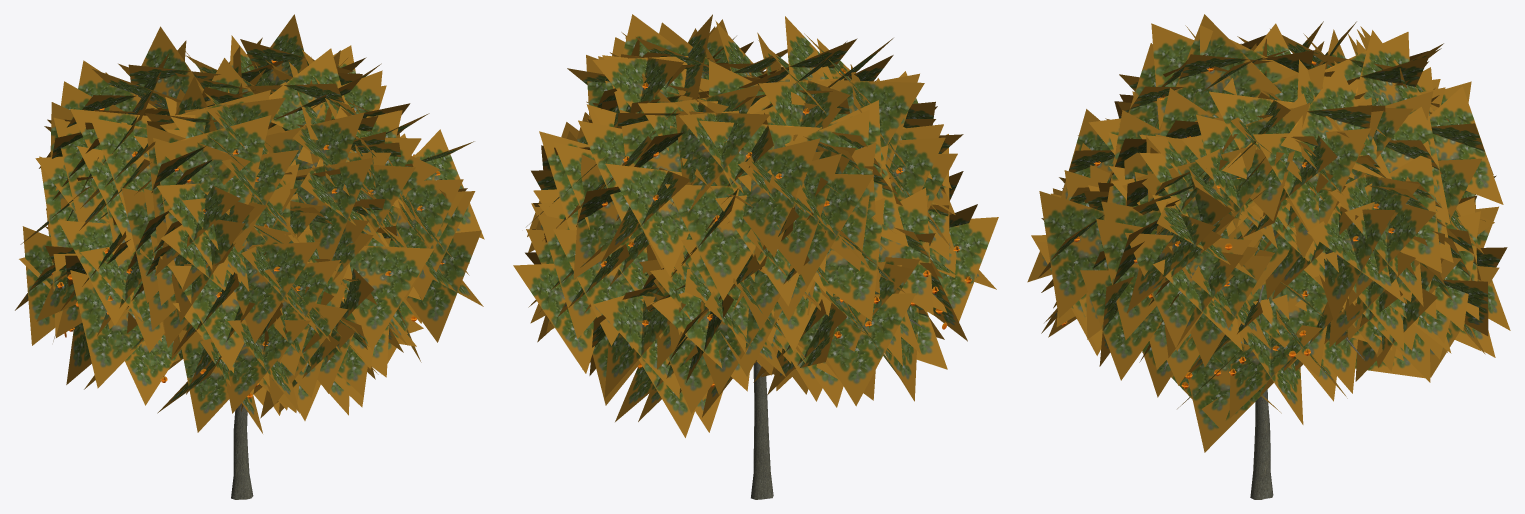
File: Citrus_Sinensis_Autumn_Adult.glb
3 renders of one model, left to right at view 1: azimuth 30°, elevation 25°; view 2: azimuth 150°, elevation 25°; view 3: azimuth 270°, elevation 25°, orthographic. The views are drawn at different scales.
Parts seen in each view (by area): view 1: Citrus_Sinensis_Autumn_Adult__LOD3; view 2: Citrus_Sinensis_Autumn_Adult__LOD3; view 3: Citrus_Sinensis_Autumn_Adult__LOD3.
Boxes of the visible parts, x1,y1,x2,y2 form: Citrus_Sinensis_Autumn_Adult__LOD3: (15,14,484,499); Citrus_Sinensis_Autumn_Adult__LOD3: (513,14,998,499); Citrus_Sinensis_Autumn_Adult__LOD3: (1027,14,1510,499).
Size of the model in its own units: 5.3 by 5.93 by 5.79.
3 materials, 3 textured.
